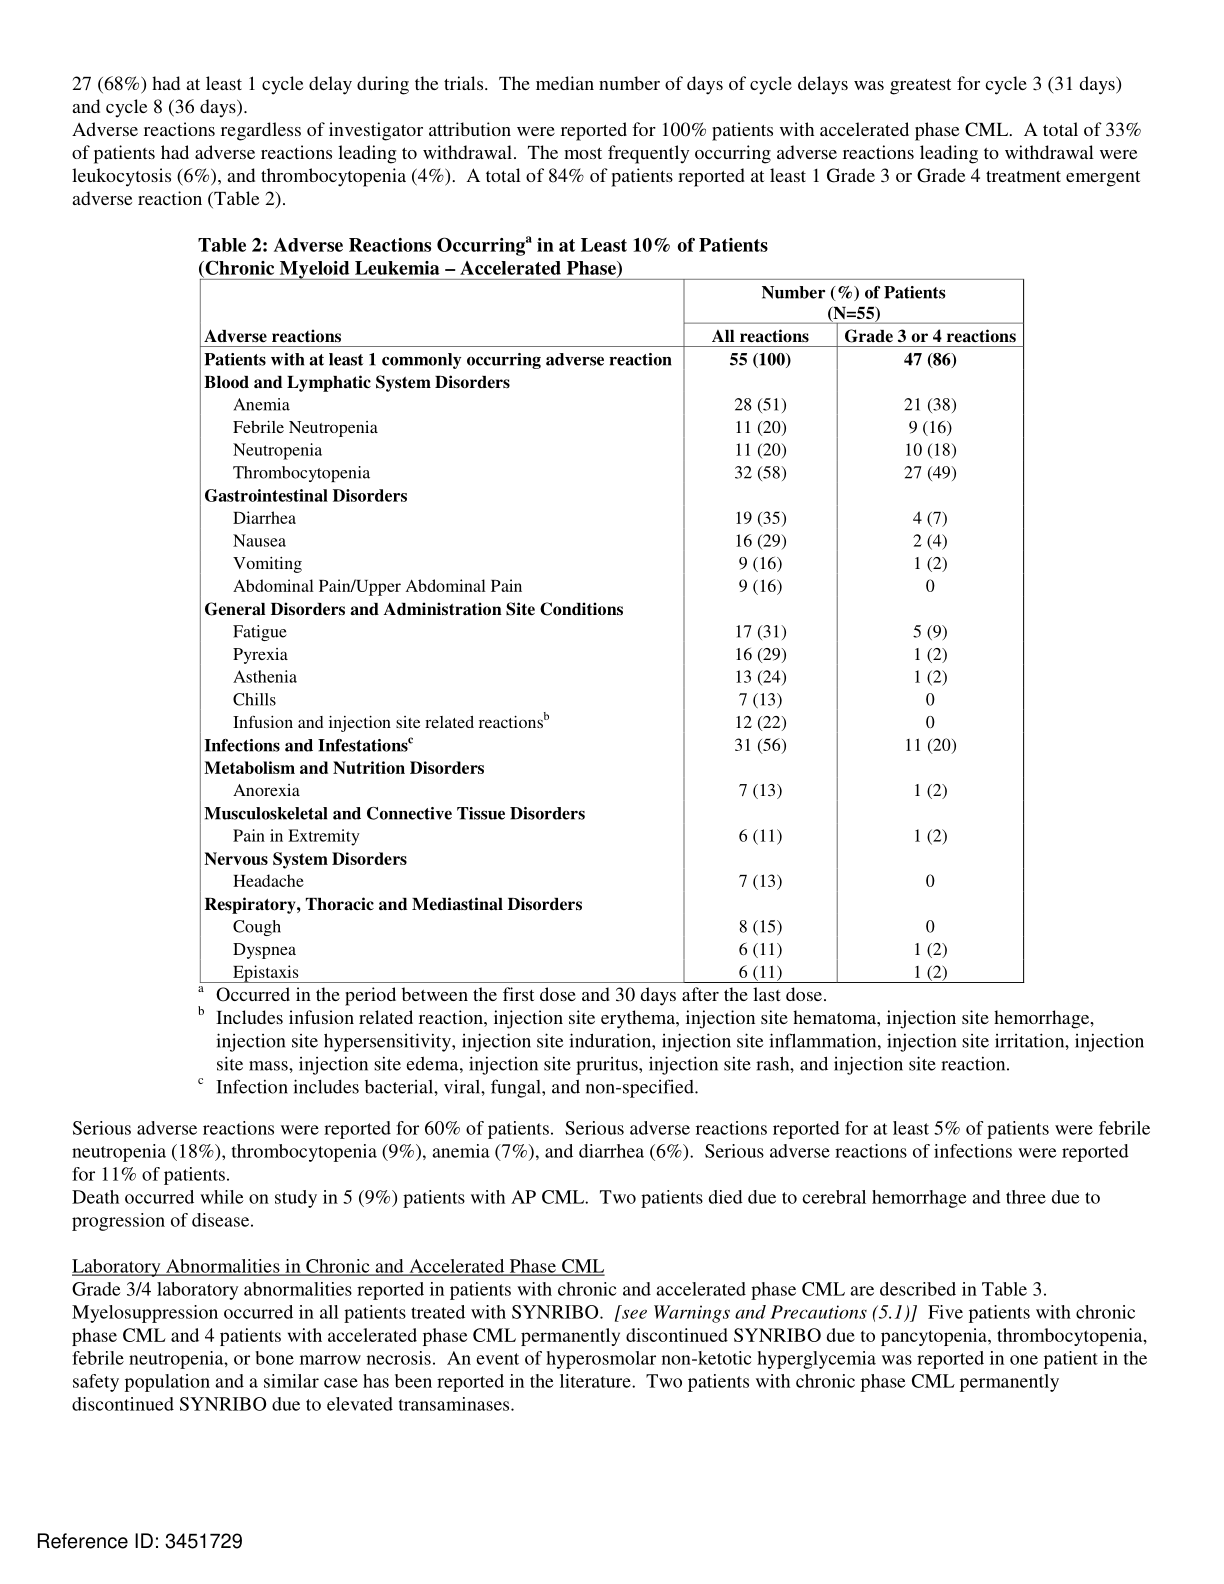partial_lined_merged_cells: (199, 278, 1025, 985)
